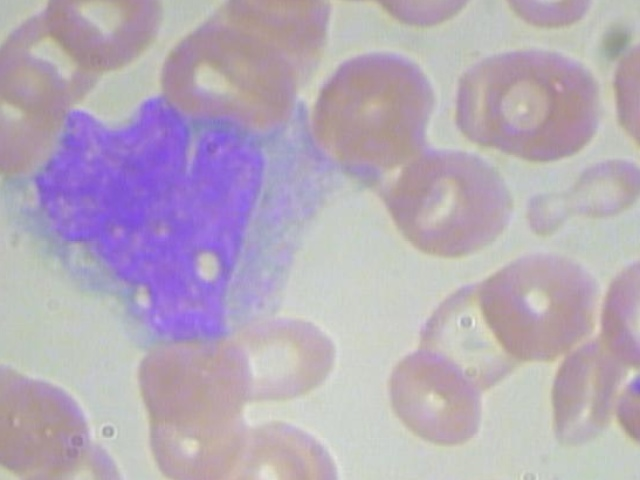RBC: (364, 147, 525, 268), (380, 338, 490, 452), (44, 0, 171, 83), (579, 243, 640, 380), (598, 361, 640, 466)
WBC: (0, 91, 355, 359)
